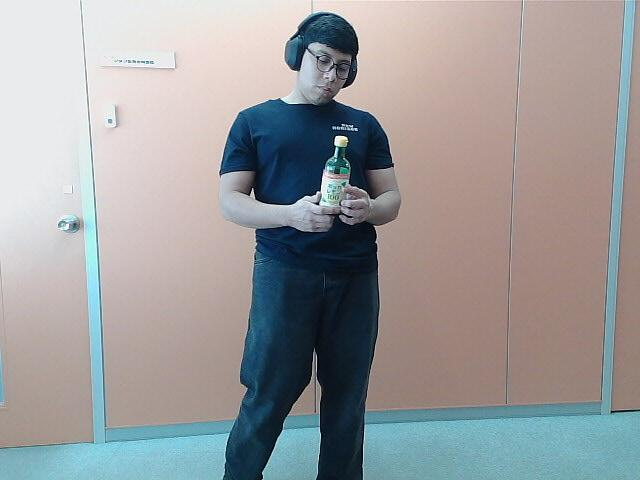Lemon_sapporo: (321, 131, 349, 216)
